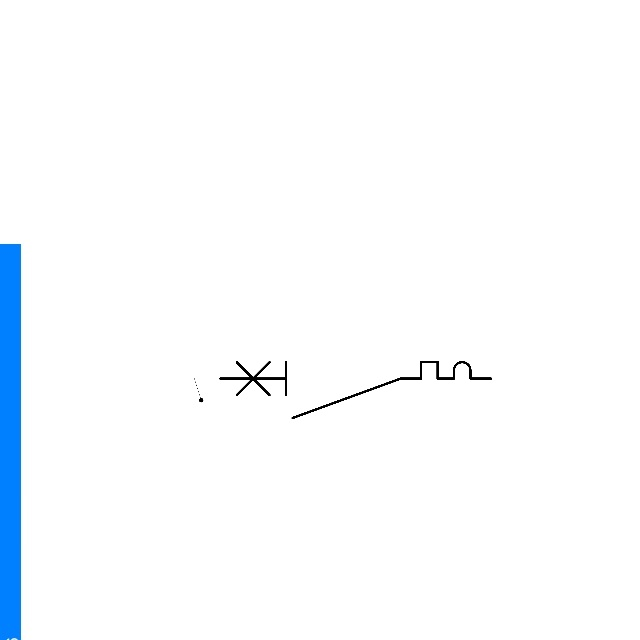interruptor_termomagnetico: (213, 355, 498, 424)
